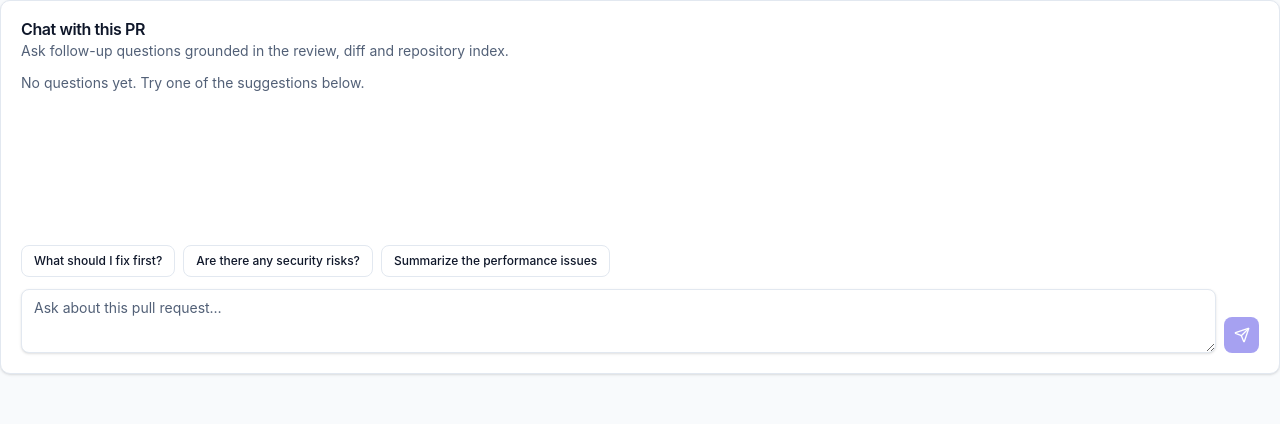
ChatPanel › offers suggested questions and shows errors
Expected: the text "No questions yet. Try one of the suggestions below." is shown, [21,74,364,91]
Expected: the button named "Send question" is disabled, [1224,317,1259,353]
Click the button "Are there any security risks?": (278, 261) [183,245,373,277]
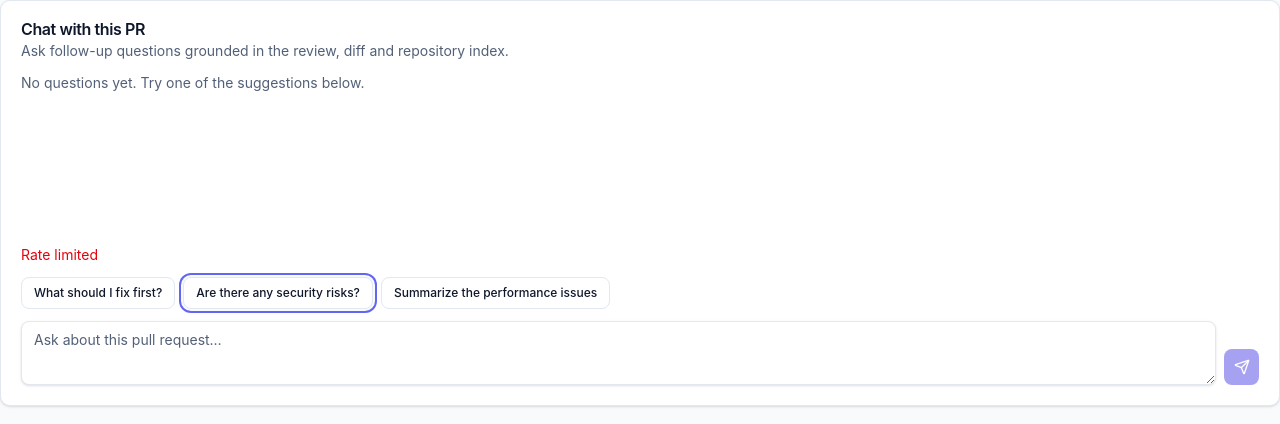
Expected: the message reads "Rate limited", [21,246,98,263]
